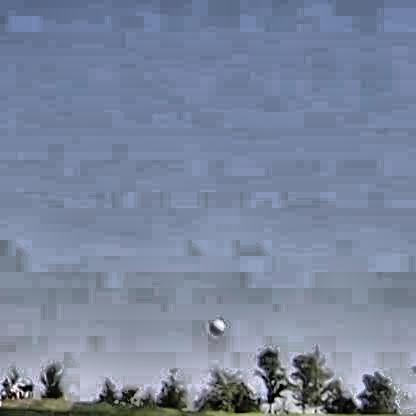golfball: (206, 315, 222, 333)
